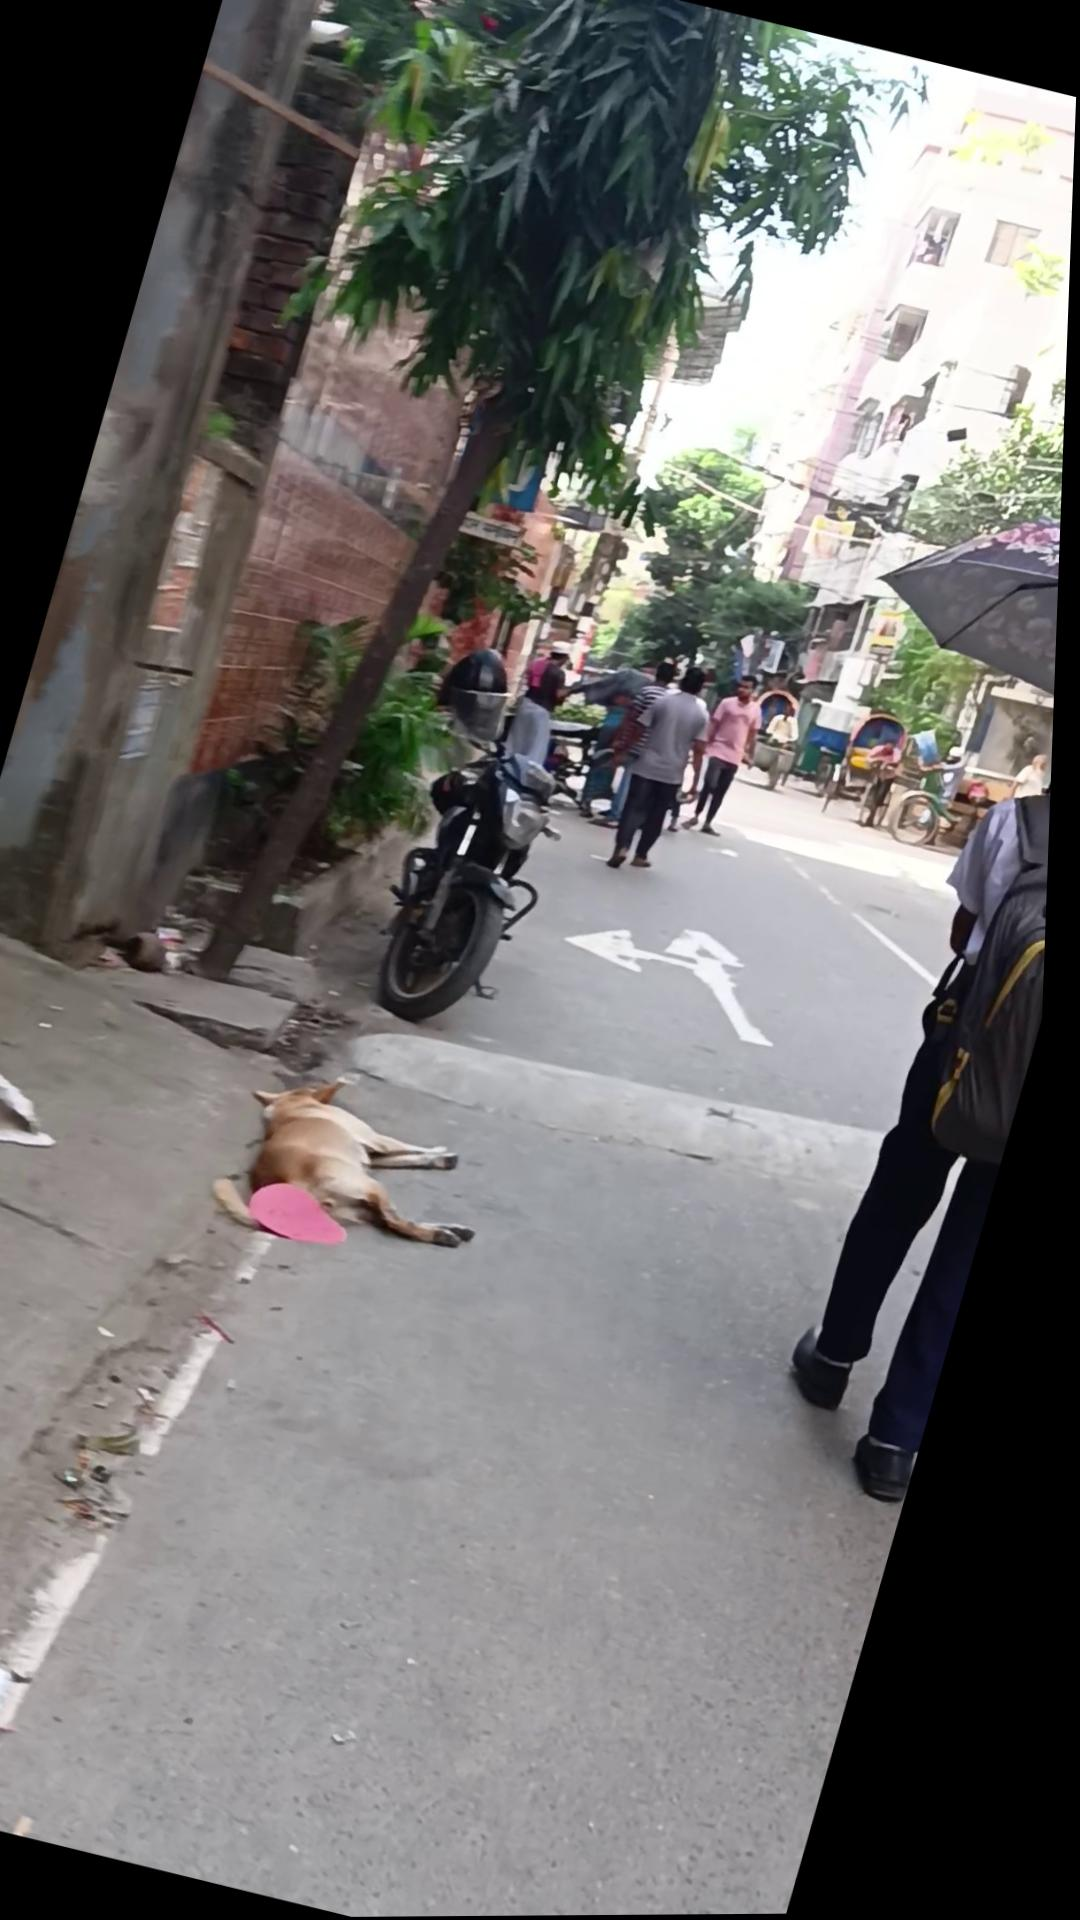Broken-road: (0, 572, 1063, 1920)
Crosswalk: (0, 1163, 291, 1778), (336, 997, 905, 1213)
Curb: (210, 1051, 518, 1283)
Light-pole: (351, 640, 613, 1046)
Muddy road: (767, 634, 1062, 1507), (682, 669, 782, 841), (853, 728, 914, 831), (1013, 750, 1058, 806)
Pothole: (824, 703, 920, 832)
